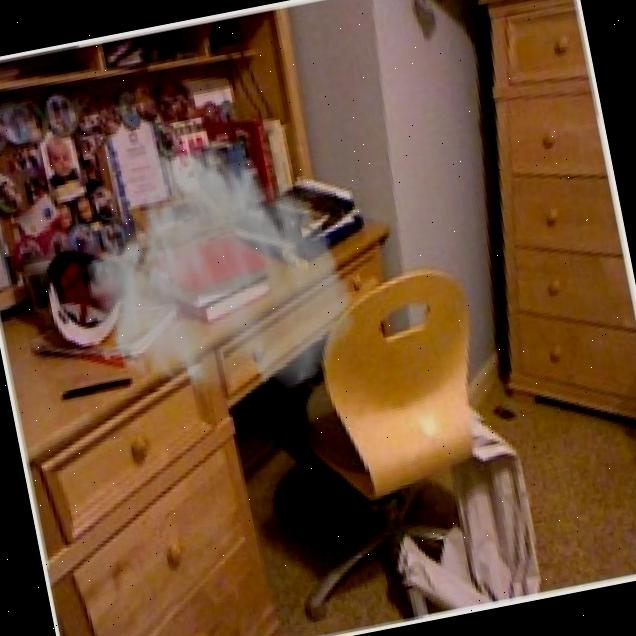smoke: (56, 106, 370, 429)
